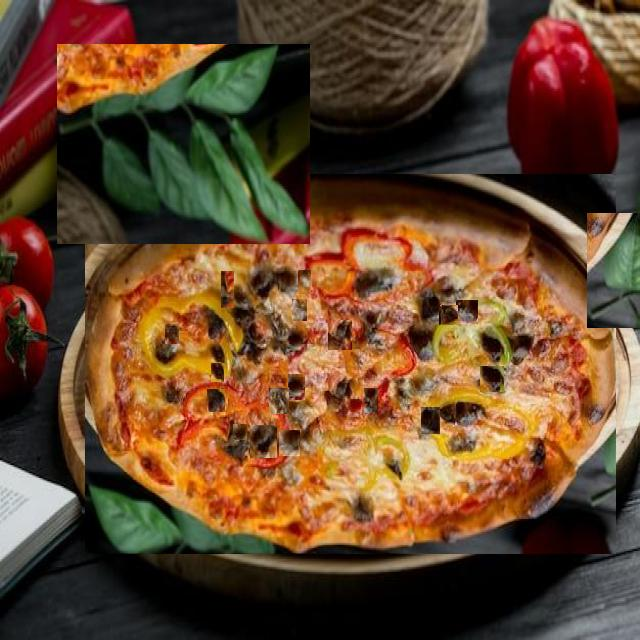basil: (57, 44, 310, 244), (587, 213, 640, 328)
olive: (231, 361, 265, 419), (230, 265, 268, 295), (250, 425, 277, 458), (509, 362, 535, 395), (328, 320, 352, 350), (411, 366, 432, 397), (480, 366, 504, 392), (279, 430, 300, 456), (456, 300, 478, 324), (269, 388, 289, 414), (421, 407, 440, 434), (156, 361, 176, 386), (221, 271, 234, 308), (398, 326, 418, 350), (207, 389, 225, 414), (288, 374, 305, 400), (384, 250, 403, 272), (439, 305, 458, 325), (364, 388, 378, 414), (292, 299, 307, 321), (298, 270, 311, 294), (165, 322, 179, 344), (211, 363, 224, 382), (272, 374, 288, 388), (233, 424, 247, 440)
pizza: (85, 174, 616, 554)
